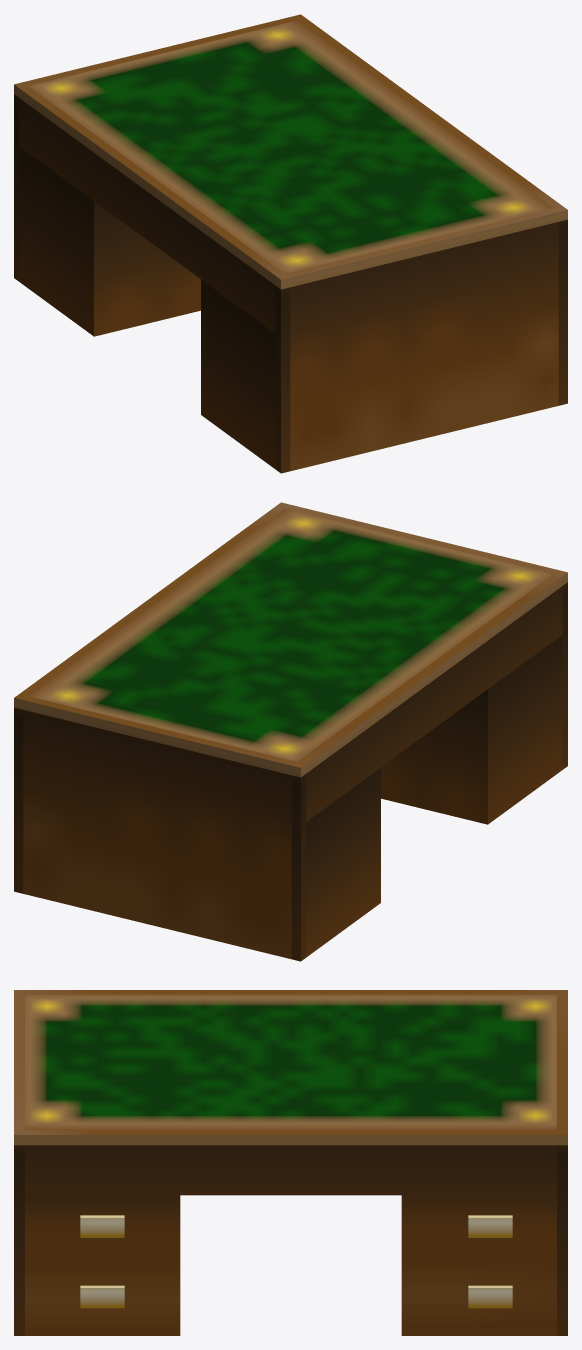
The model's file is desk_283x00.obj.
The picture shows the model from 3 angles, top to bottom: view 1: azimuth 30°, elevation 25°; view 2: azimuth 150°, elevation 25°; view 3: azimuth 270°, elevation 25°; orthographic projection. The views are drawn at different scales.
Visible parts, largest first — view 1: Desk_283x0; view 2: Desk_283x0; view 3: Desk_283x0.
Part boxes in pixels (bbox=[...]): Desk_283x0: bbox=[14, 14, 567, 473]; Desk_283x0: bbox=[14, 502, 567, 961]; Desk_283x0: bbox=[14, 990, 567, 1335].
Size of the model in its own units: 3.15 by 2 by 5.
